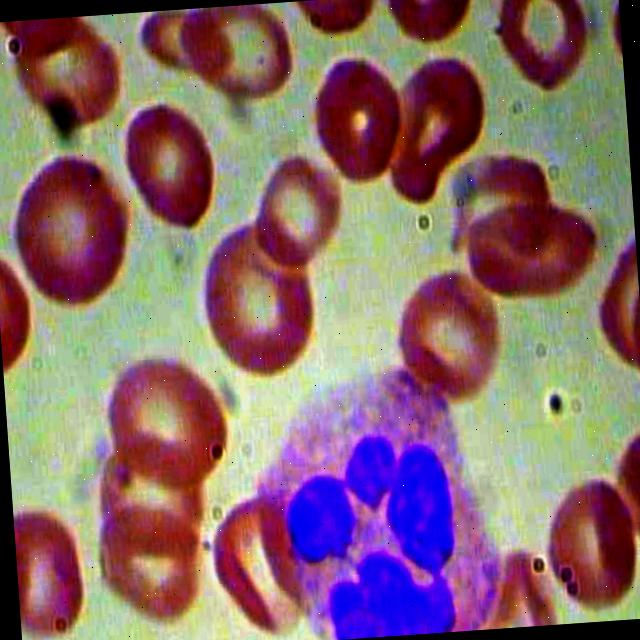RBC: (1, 146, 142, 318), (96, 338, 236, 497), (201, 213, 320, 385), (382, 48, 494, 210), (389, 260, 508, 406), (464, 192, 606, 306), (114, 98, 224, 241), (308, 47, 407, 193), (534, 473, 640, 608), (179, 1, 302, 115), (252, 140, 345, 276), (11, 489, 87, 640), (496, 0, 591, 102)
WBC: (240, 360, 500, 640)
